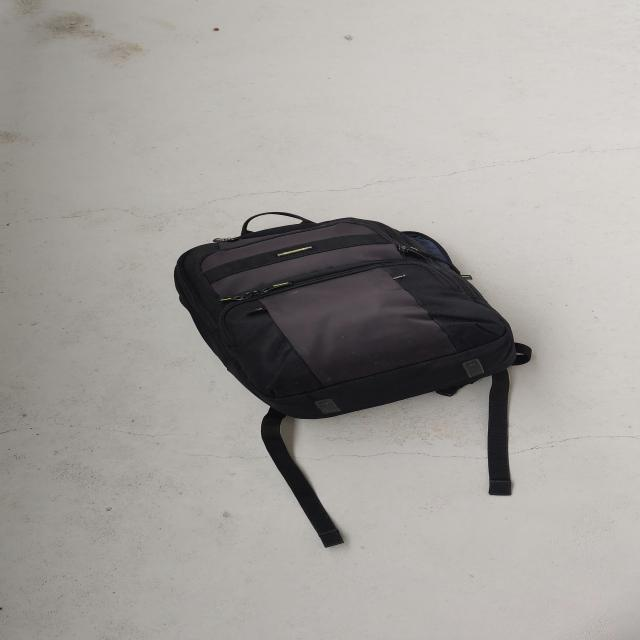backpack: (162, 207, 534, 427)
